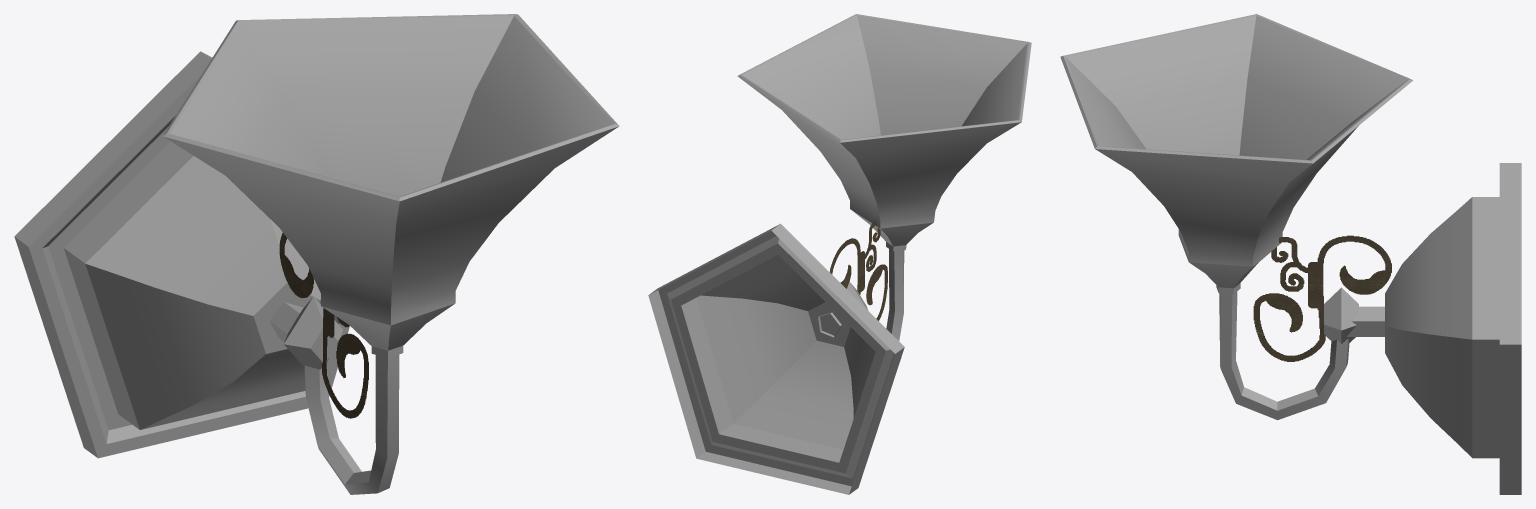
The model's file is Prop_LampA.fbx.
The picture shows the model from 3 angles, left to right: view 1: azimuth 30°, elevation 25°; view 2: azimuth 150°, elevation 25°; view 3: azimuth 270°, elevation 25°; orthographic projection. The views are drawn at different scales.
Parts seen in each view (by area): view 1: Mesh; view 2: Mesh; view 3: Mesh.
Boxes of the visible parts, box(x1,y1,x2,y2) form: Mesh: box(14, 14, 619, 494); Mesh: box(648, 14, 1031, 494); Mesh: box(1060, 14, 1521, 494).
Bounding box in the file's own units: 26.03 × 29.3 × 33.99.
